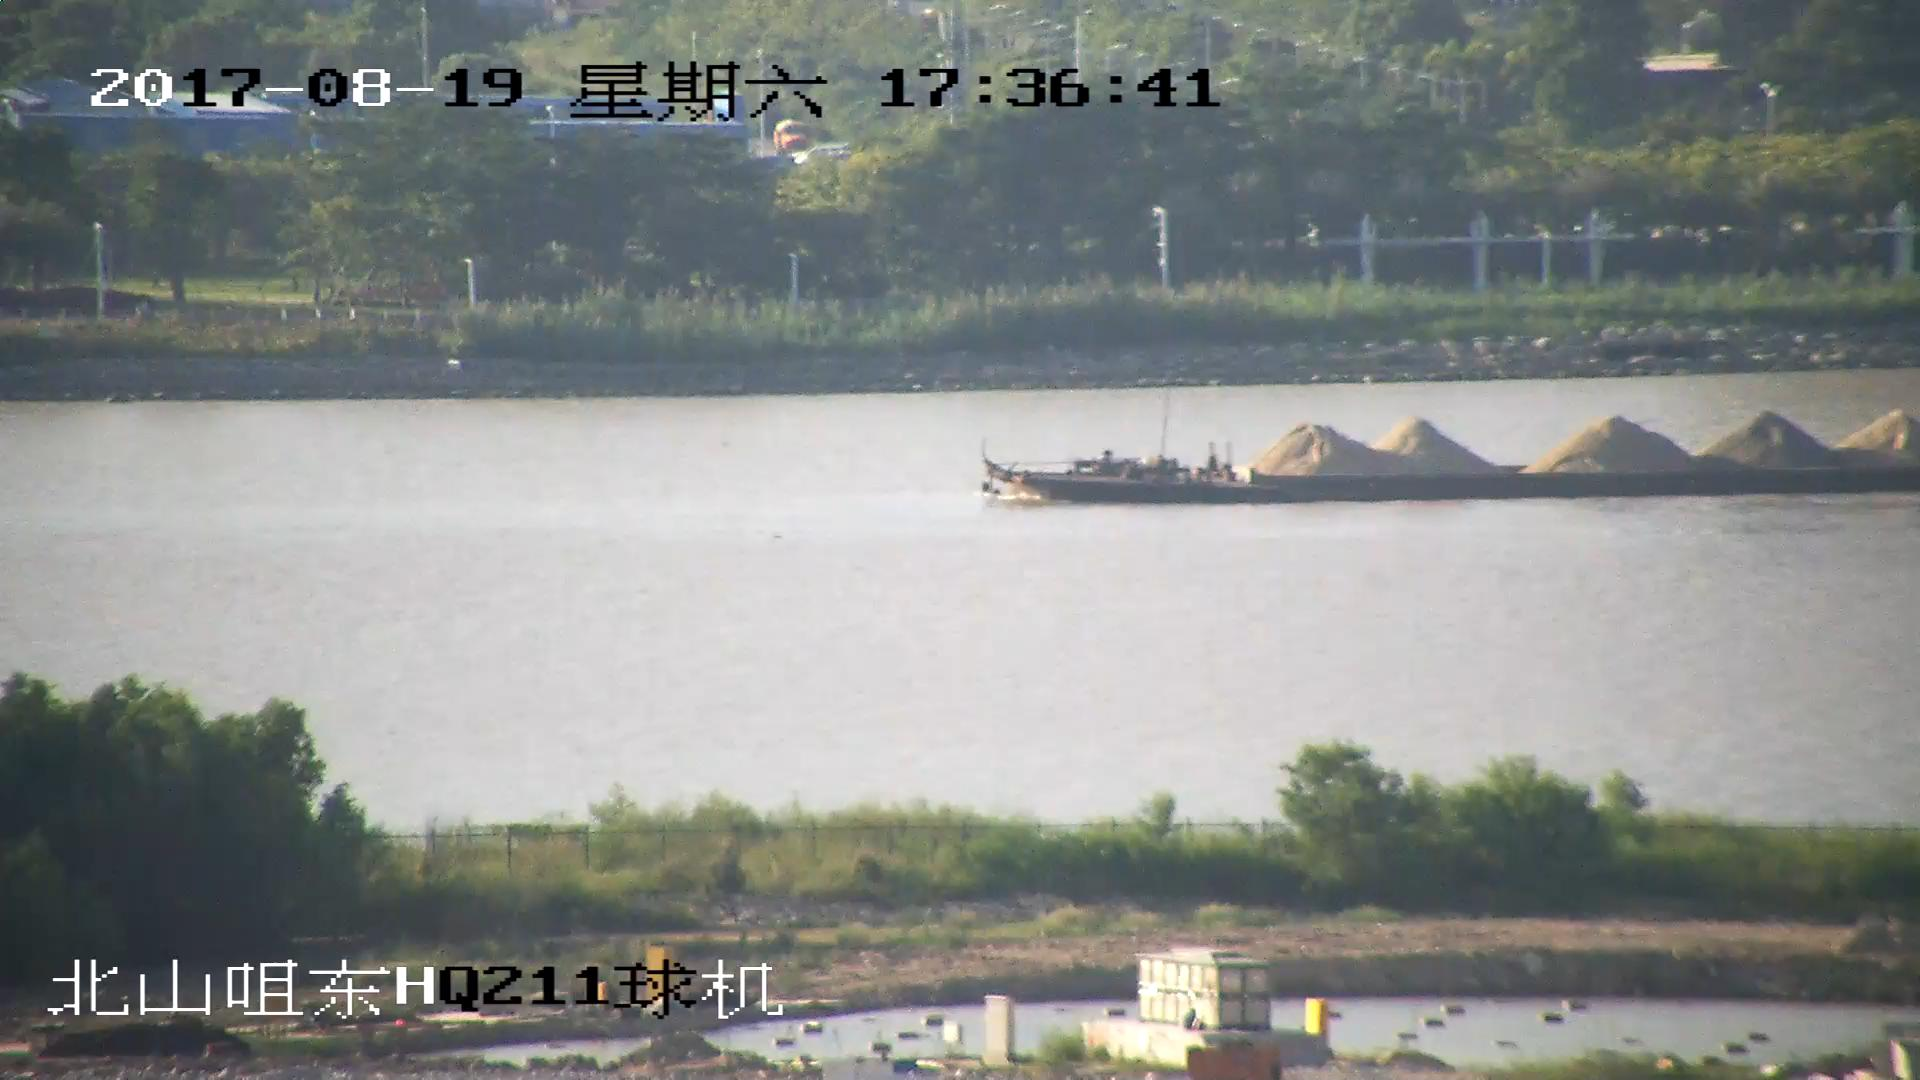ore carrier: (982, 408, 1920, 507)
